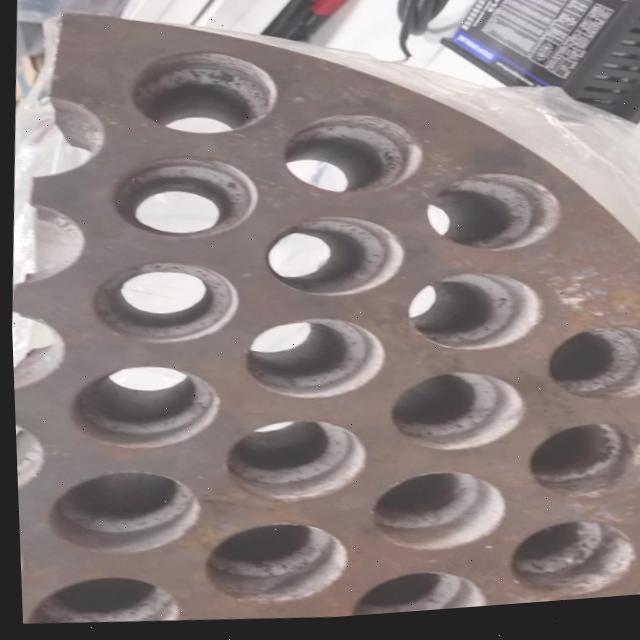Hole: (60, 360, 219, 459), (39, 465, 198, 564), (124, 46, 279, 146), (103, 151, 258, 249), (84, 256, 238, 354), (194, 519, 345, 616), (215, 417, 365, 514), (235, 316, 384, 411), (276, 112, 423, 207), (257, 215, 403, 309), (381, 371, 523, 465), (361, 471, 503, 565), (419, 173, 560, 266), (401, 273, 542, 364), (497, 521, 633, 612), (518, 425, 640, 514), (18, 570, 177, 632), (539, 329, 640, 414), (341, 571, 483, 621)
